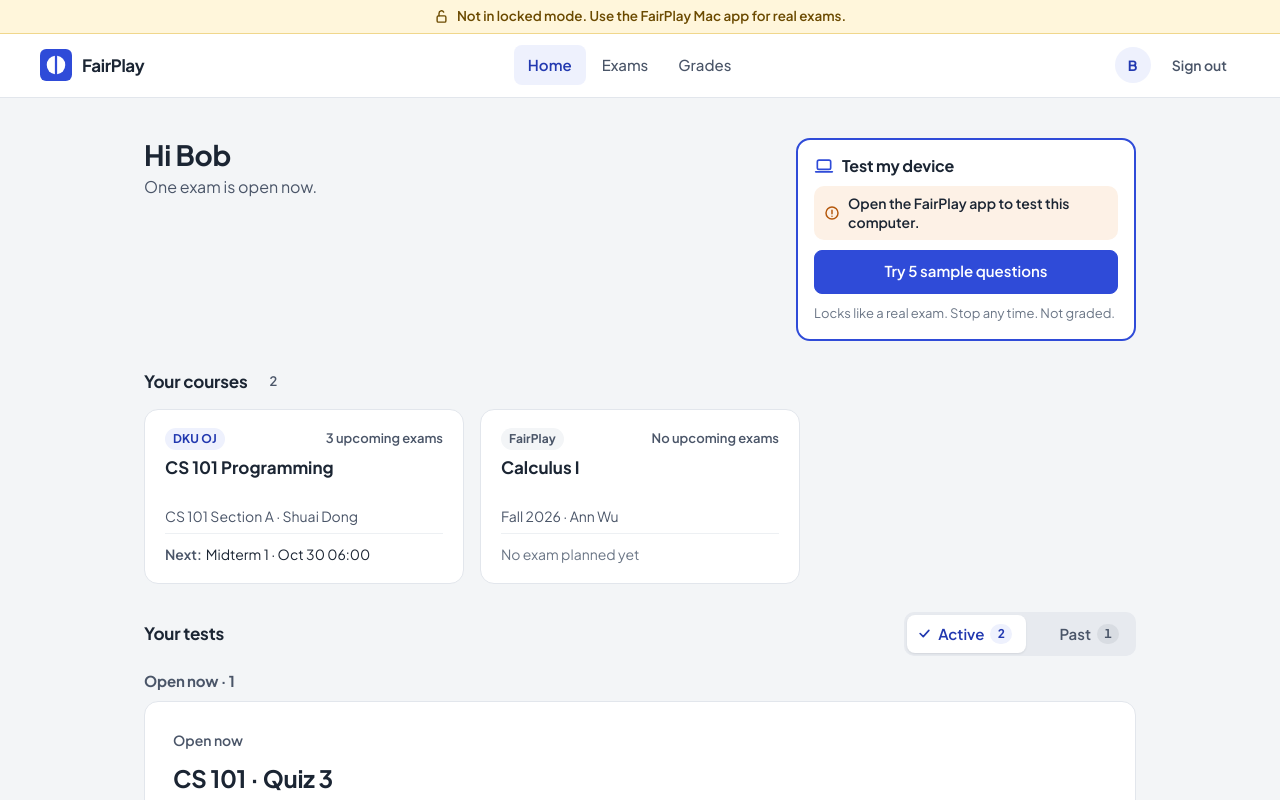
Test case: home page: Your tests [Active | Past] › Active: open now across courses plus each course's next exam; Past: results with grades
Expected: the heading "Your tests" is shown, [144, 623, 224, 644]
Expected: the heading "Open now · 1" is shown, [144, 671, 235, 690]
Click the tab "Past 1" at coordinates (1081, 634), box [1028, 615, 1133, 653]
(page scrolled)
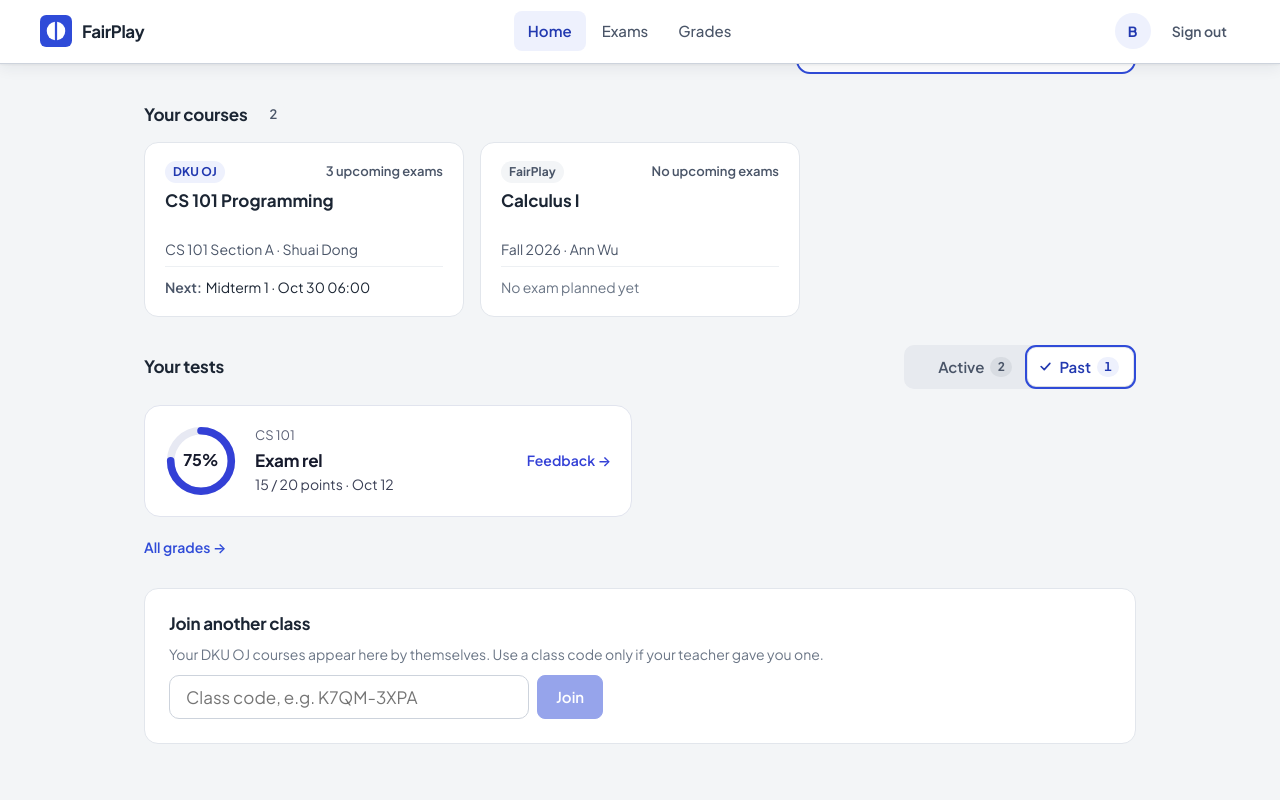
Result: the picture named "75 percent" is shown at [165, 425, 237, 497]
Result: the text with test id "grade-line" shows "15 / 20 points" at [255, 475, 394, 493]
